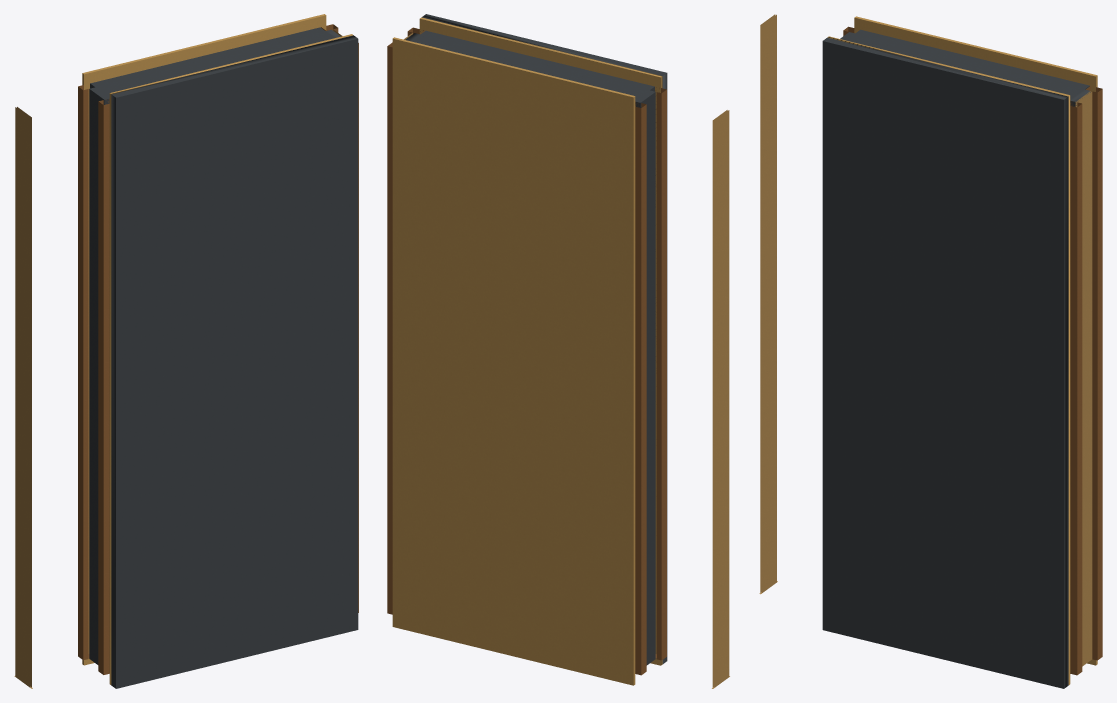
The model's file is perete-polistisip-v3-aliniat.glb.
3 renders of one model, left to right at view 1: azimuth 30°, elevation 25°; view 2: azimuth 150°, elevation 25°; view 3: azimuth 330°, elevation 25°, orthographic.
Visible parts, largest first — view 1: EPS exterior 40 mm, Grindă I — dreapta.002, Miez SIP 220 mm, Grindă I — dreapta.005, Grindă I — dreapta.004, OSB 15 mm (exterior).001, OSB 15 mm (exterior), Grindă I — dreapta.003; view 2: OSB 15 mm (exterior).001, Grindă I — dreapta.002, Miez SIP 220 mm, Grindă I — dreapta.004, Grindă I — dreapta.005, OSB 15 mm (exterior), Grindă I — dreapta.001, EPS exterior 40 mm; view 3: EPS exterior 40 mm, Grindă I — dreapta.002, Grindă I — dreapta.003, Grindă I — dreapta, Grindă I — dreapta.001, Miez SIP 220 mm, OSB 15 mm (exterior).001, OSB 15 mm (exterior).
Boxes of the visible parts, left/top/right/bottom form: EPS exterior 40 mm: left=111, top=35, right=358, bottom=688; Grindă I — dreapta.002: left=14, top=107, right=32, bottom=688; Miez SIP 220 mm: left=89, top=27, right=340, bottom=664; Grindă I — dreapta.005: left=98, top=99, right=109, bottom=674; Grindă I — dreapta.004: left=78, top=85, right=89, bottom=660; OSB 15 mm (exterior).001: left=82, top=14, right=326, bottom=665; OSB 15 mm (exterior): left=109, top=34, right=353, bottom=684; Grindă I — dreapta.003: left=358, top=43, right=358, bottom=612; OSB 15 mm (exterior).001: left=392, top=37, right=635, bottom=685; Grindă I — dreapta.002: left=712, top=110, right=729, bottom=688; Miez SIP 220 mm: left=405, top=30, right=655, bottom=665; Grindă I — dreapta.004: left=635, top=101, right=646, bottom=675; Grindă I — dreapta.005: left=655, top=87, right=666, bottom=660; OSB 15 mm (exterior): left=419, top=17, right=662, bottom=665; Grindă I — dreapta.001: left=387, top=42, right=392, bottom=614; EPS exterior 40 mm: left=422, top=14, right=667, bottom=663; EPS exterior 40 mm: left=822, top=37, right=1068, bottom=688; Grindă I — dreapta.002: left=759, top=14, right=777, bottom=594; Grindă I — dreapta.003: left=1070, top=101, right=1082, bottom=675; Grindă I — dreapta: left=1075, top=91, right=1092, bottom=666; Grindă I — dreapta.001: left=1086, top=86, right=1102, bottom=660; Miez SIP 220 mm: left=840, top=29, right=1090, bottom=106; OSB 15 mm (exterior).001: left=854, top=16, right=1097, bottom=665; OSB 15 mm (exterior): left=827, top=36, right=1070, bottom=684.
Bounding box in the file's own units: 1.6 × 2.8 × 0.2899.
Materials: 4 (4 with a texture image).
